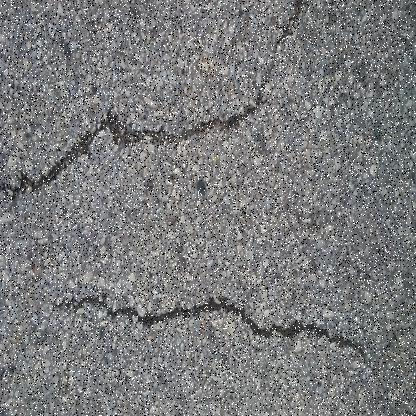Cracks: (0, 1, 308, 204), (54, 283, 367, 358)
